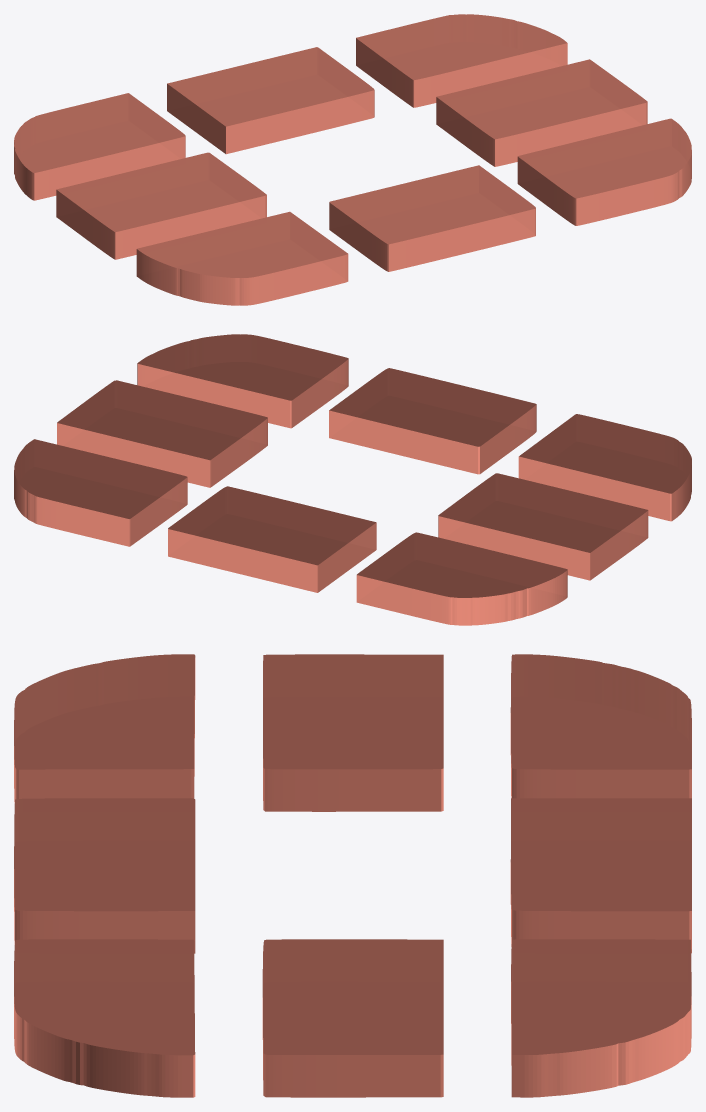
The model's file is fortigate.glb.
The picture shows the model from 3 angles, top to bottom: view 1: azimuth 30°, elevation 25°; view 2: azimuth 150°, elevation 25°; view 3: azimuth 270°, elevation 25°; orthographic projection. The views are drawn at different scales.
Parts seen in each view (by area): view 1: Node3, Node4, Node1, Node2, Node7, Node6, Node5, Node8; view 2: Node3, Node4, Node1, Node2, Node8, Node5, Node6, Node7; view 3: Node1, Node2, Node5, Node6, Node4, Node3, Node7, Node8.
Part boxes in pixels (x1,y1,x2,y2): Node3: (167,47,374,154); Node4: (329,165,535,271); Node1: (436,59,647,166); Node2: (56,152,266,259); Node7: (136,211,348,305); Node6: (356,14,567,107); Node5: (517,118,691,225); Node8: (14,93,185,200); Node3: (168,486,376,592); Node4: (329,368,536,474); Node1: (57,380,267,487); Node2: (438,473,648,580); Node8: (356,532,567,625); Node5: (137,334,348,428); Node6: (14,439,187,546); Node7: (518,414,691,521); Node1: (262,939,443,1097); Node2: (263,654,443,811); Node5: (14,939,195,1097); Node6: (511,939,691,1097); Node4: (14,798,195,953); Node3: (510,798,691,953); Node7: (14,654,195,803); Node8: (510,654,691,798).
Size of what is drawn, in the model's own units: 81.03 by 4 by 57.9.
